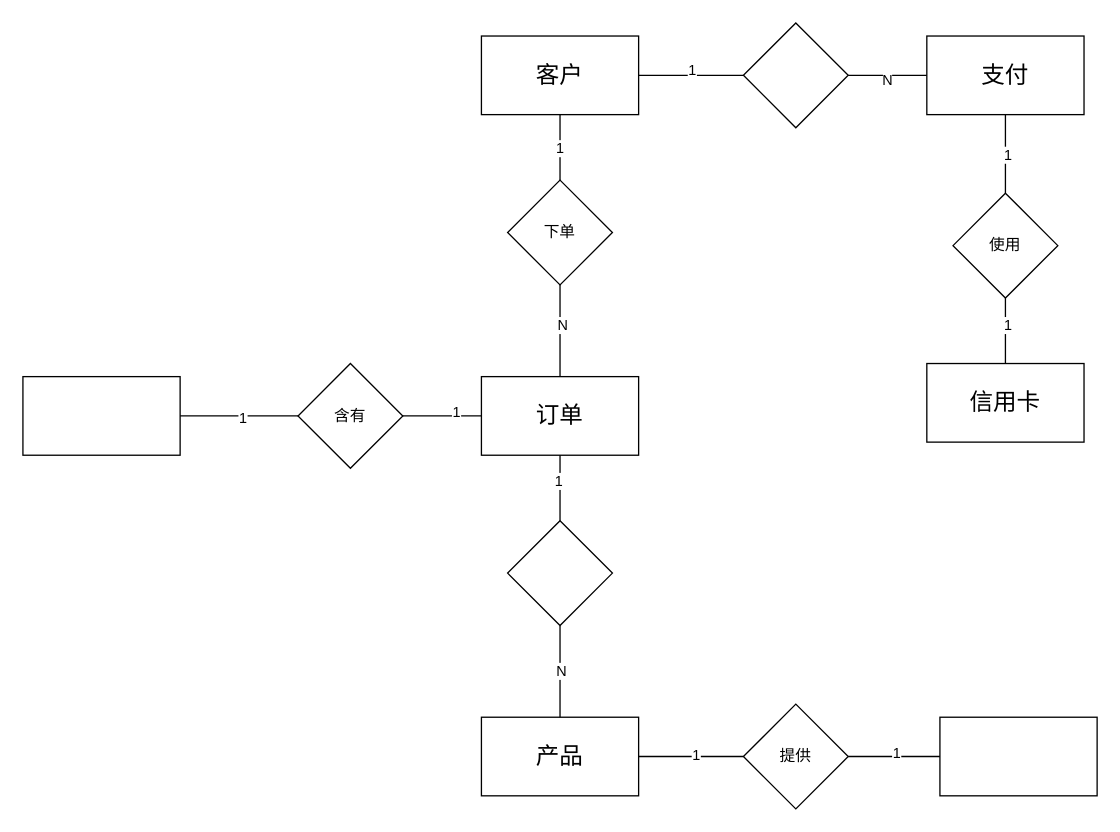
This 1120x832 diagram has some shape labels left out. The shapes that lost their labels are listed below. From the top down, each one's centre as x and y in pixels, then its label:
At [795,75]: "进行".
At [101,415]: "配送".
At [559,572]: "包涵".
At [1018,756]: "供应商".
